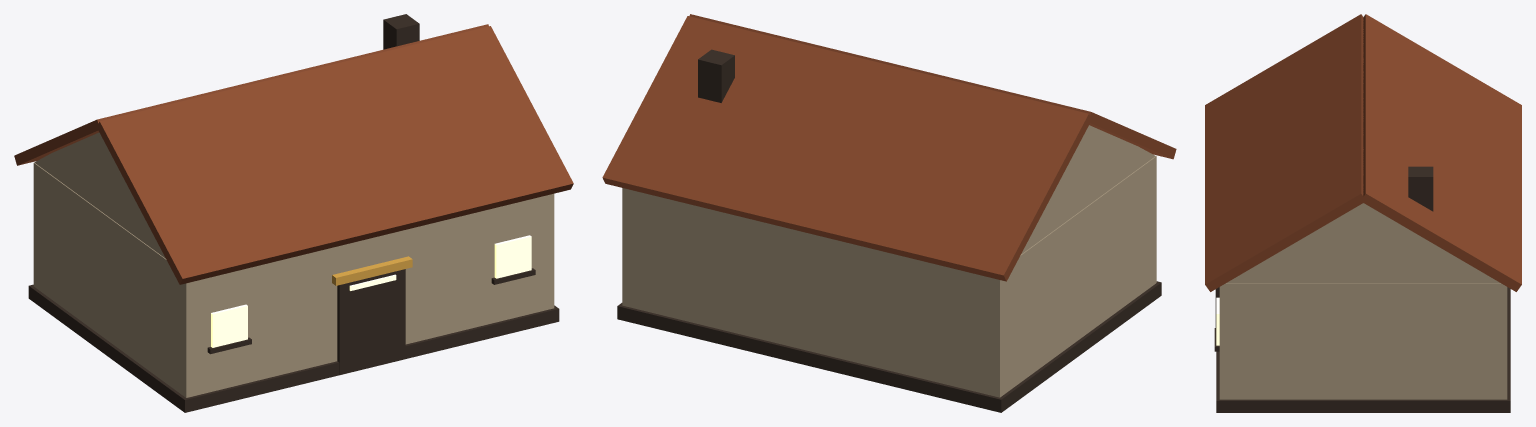
Rendered from bld_gable.glb.
3 renders of one model, left to right at view 1: azimuth 30°, elevation 25°; view 2: azimuth 150°, elevation 25°; view 3: azimuth 270°, elevation 25°, orthographic. The views are drawn at different scales.
Parts seen in each view (by area): view 1: roof, building; view 2: roof, building; view 3: roof, building.
Boxes of the visible parts, bbox=[...] form: roof: bbox=[14, 24, 573, 284]; building: bbox=[28, 14, 559, 412]; roof: bbox=[602, 14, 1176, 281]; building: bbox=[617, 49, 1161, 412]; roof: bbox=[1205, 14, 1521, 291]; building: bbox=[1214, 166, 1510, 412].
Bounding box in the file's own units: 5.1 × 2.96 × 3.8.
